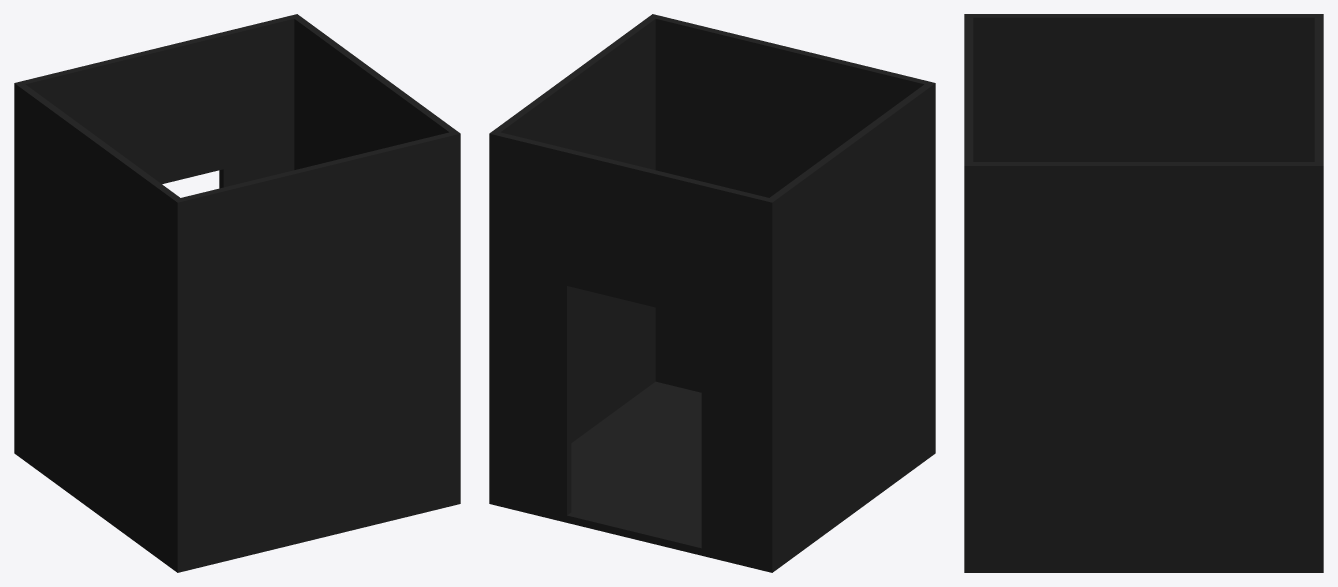
File: TheEvent-1.obj
3 renders of one model, left to right at view 1: azimuth 30°, elevation 25°; view 2: azimuth 150°, elevation 25°; view 3: azimuth 270°, elevation 25°, orthographic. The views are drawn at different scales.
Size of the model in its own units: 4 by 5 by 4.
Materials: 1 (1 with a texture image).
